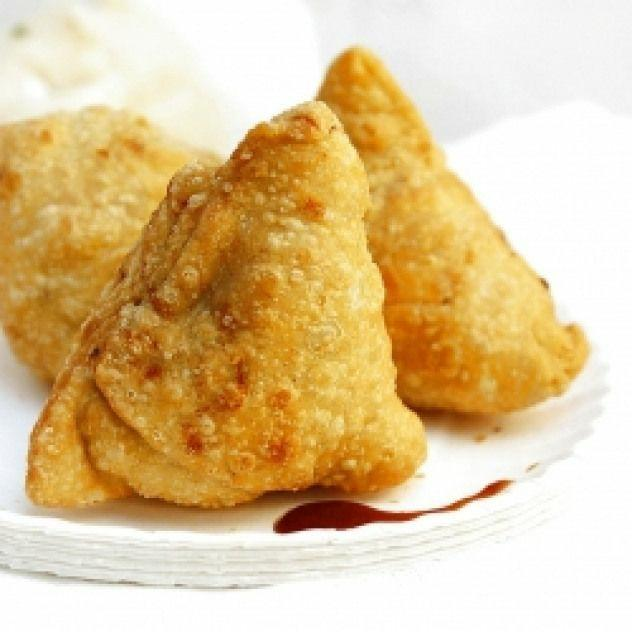Samosa: (24, 102, 431, 515), (313, 45, 588, 418), (0, 102, 229, 393)
